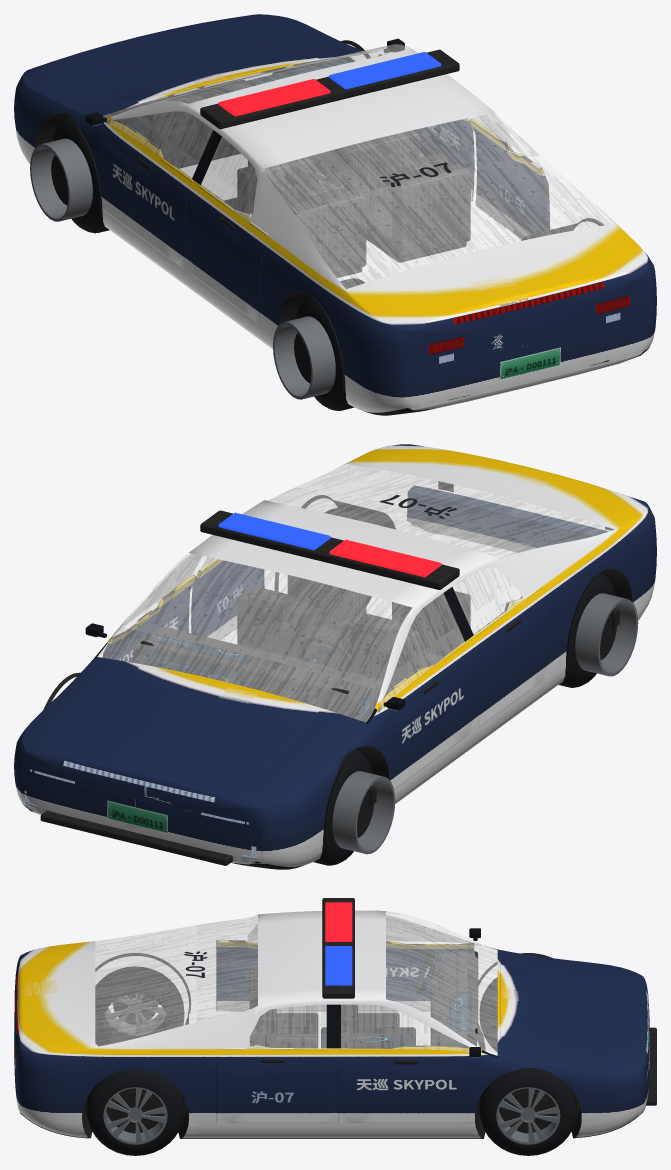
The model's file is police_interceptor.glb.
3 renders of one model, top to bottom at view 1: azimuth 30°, elevation 25°; view 2: azimuth 150°, elevation 25°; view 3: azimuth 270°, elevation 25°, orthographic. The views are drawn at different scales.
Parts seen in each view (by area): view 1: Body, Glass, Interior, Bumper_R, Hood, Door_FL, Wheel_FL, Wheel_RL, Door_RR, Door_RL, Trim, LightBar (+6 smaller); view 2: Body, Glass, Interior, Hood, Bumper_F, Bumper_R, Door_FL, Wheel_FL, Wheel_RL, Door_RL, Door_RR, Trim (+7 smaller); view 3: Body, Glass, Interior, Door_FR, Door_RR, Hood, Wheel_FR, Wheel_RR, Wheel_RL, Door_FL, Door_RL, Trim (+5 smaller).
Boxes of the visible parts, <box> form: Body: <box>14,14,656,415</box>; Glass: <box>103,44,614,288</box>; Interior: <box>133,57,470,277</box>; Bumper_R: <box>411,315,643,409</box>; Hood: <box>83,32,319,105</box>; Door_FL: <box>101,120,192,270</box>; Wheel_FL: <box>30,115,110,233</box>; Wheel_RL: <box>273,295,354,410</box>; Door_RR: <box>470,118,549,238</box>; Door_RL: <box>191,185,268,325</box>; Trim: <box>36,38,609,400</box>; LightBar: <box>200,49,459,129</box>; Body: <box>14,444,656,869</box>; Glass: <box>97,464,614,722</box>; Interior: <box>133,575,470,722</box>; Hood: <box>82,666,319,767</box>; Bumper_F: <box>20,767,264,863</box>; Bumper_R: <box>407,485,608,552</box>; Door_FL: <box>379,641,474,788</box>; Wheel_FL: <box>313,749,395,865</box>; Wheel_RL: <box>558,572,638,687</box>; Door_RL: <box>472,585,549,726</box>; Door_RR: <box>191,558,264,640</box>; Trim: <box>24,495,632,859</box>; Body: <box>14,910,649,1138</box>; Glass: <box>95,911,497,1055</box>; Interior: <box>249,949,478,1048</box>; Door_FR: <box>338,1046,474,1123</box>; Door_RR: <box>216,1044,329,1123</box>; Hood: <box>500,964,592,1048</box>; Wheel_FR: <box>479,1068,576,1155</box>; Wheel_RR: <box>86,1069,184,1155</box>; Wheel_RL: <box>95,966,184,1046</box>; Door_FL: <box>357,941,473,1010</box>; Door_RL: <box>216,940,326,1011</box>; Trim: <box>82,928,646,1127</box>.
Size of the model in its own units: 2.2 by 1.33 by 4.75.
Materials: 15 (10 with a texture image).
